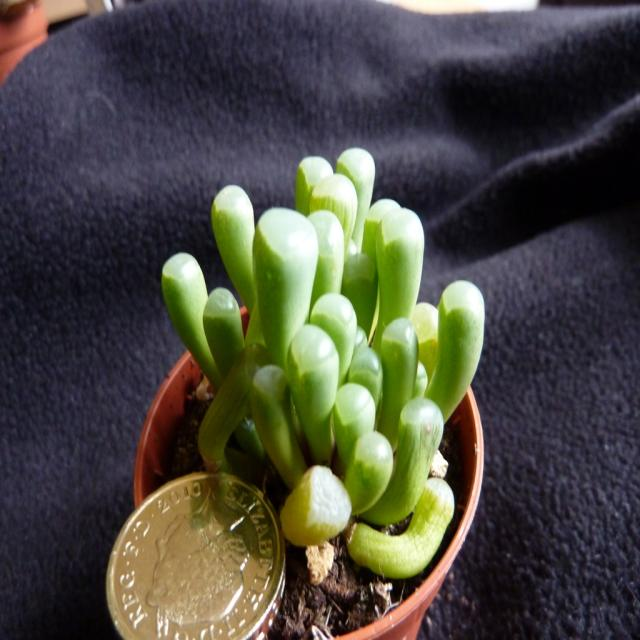Coin: (104, 468, 290, 639)
